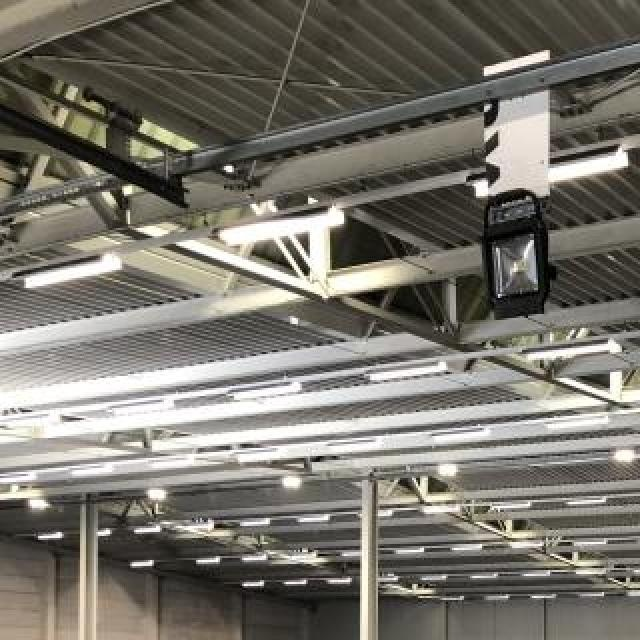fluorescent tube: (460, 138, 640, 200), (206, 202, 357, 258), (16, 249, 125, 304), (518, 333, 620, 362), (353, 358, 456, 386), (225, 377, 311, 406), (542, 411, 620, 440), (314, 431, 391, 456), (104, 398, 178, 422), (420, 421, 500, 443), (413, 496, 467, 520), (227, 443, 285, 465), (558, 487, 611, 511), (291, 504, 338, 531), (145, 455, 202, 477), (63, 460, 125, 480), (2, 465, 40, 493), (351, 502, 402, 522), (126, 520, 166, 544), (486, 497, 538, 515), (503, 537, 547, 555), (461, 569, 502, 587), (175, 518, 217, 535), (569, 563, 611, 580), (414, 569, 452, 587), (122, 558, 162, 575), (449, 538, 489, 555), (239, 547, 272, 566), (514, 566, 555, 581), (284, 552, 322, 568), (572, 587, 608, 603), (323, 572, 357, 588), (372, 572, 403, 588), (525, 592, 563, 605), (390, 547, 431, 559), (237, 576, 266, 592), (571, 537, 609, 549), (232, 518, 272, 529), (33, 533, 69, 545), (335, 549, 365, 563), (191, 553, 222, 565), (84, 527, 112, 540), (439, 593, 467, 605), (283, 575, 308, 588), (484, 593, 509, 604), (626, 566, 640, 580), (624, 588, 640, 600), (632, 534, 640, 544), (638, 480, 640, 502)
